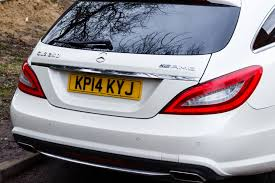number_plate: (58, 70, 154, 102)
